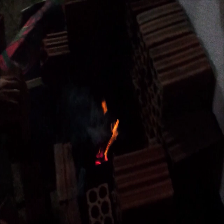fire_h: (94, 119, 120, 165)
fire_l: (102, 99, 107, 116)
